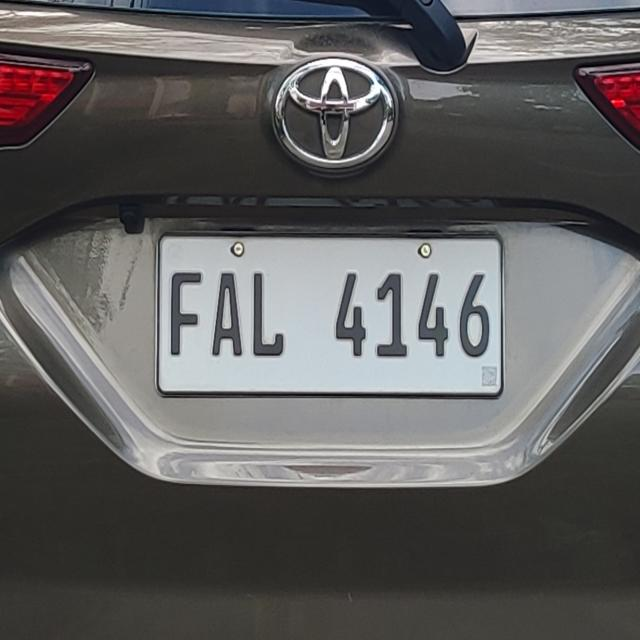plate: (153, 229, 506, 403)
